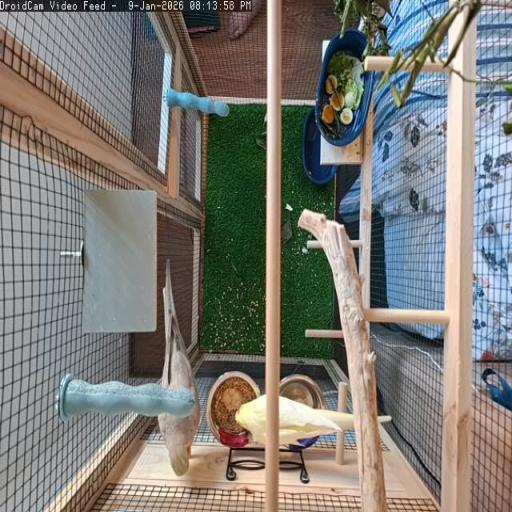bebedero: (279, 375, 326, 407), (290, 436, 318, 450)
comedero: (207, 371, 260, 447)
ninfa: (158, 261, 200, 475), (279, 397, 353, 444), (235, 395, 265, 443)
